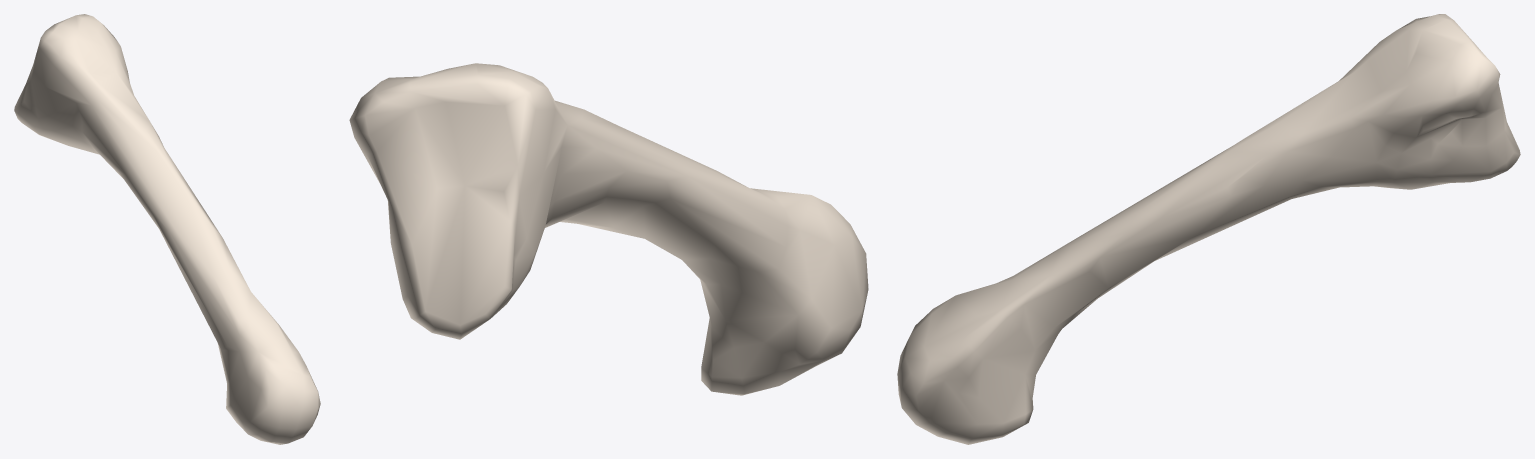
File: left_metatarsal_2.glb
3 views of the same model, side by side, from view 1: azimuth 30°, elevation 25°; view 2: azimuth 150°, elevation 25°; view 3: azimuth 270°, elevation 25° (orthographic). The views are drawn at different scales.
Parts seen in each view (by area): view 1: Second metatarsal bone.r; view 2: Second metatarsal bone.r; view 3: Second metatarsal bone.r.
Part boxes in pixels (left/top/right/bottom): Second metatarsal bone.r: left=14, top=14, right=320, bottom=444; Second metatarsal bone.r: left=349, top=63, right=868, bottom=395; Second metatarsal bone.r: left=897, top=14, right=1520, bottom=444.
Size of the model in its own units: 0.0164 by 0.0488 by 0.0697.
